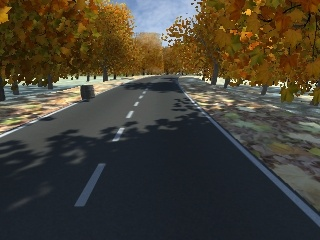Barrel: (77, 83, 96, 101)
